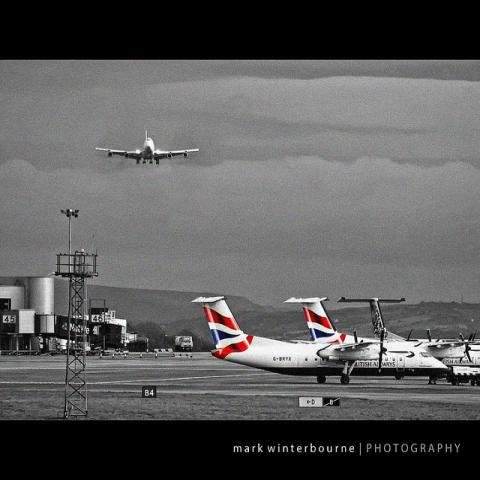truck: (176, 335, 194, 352)
